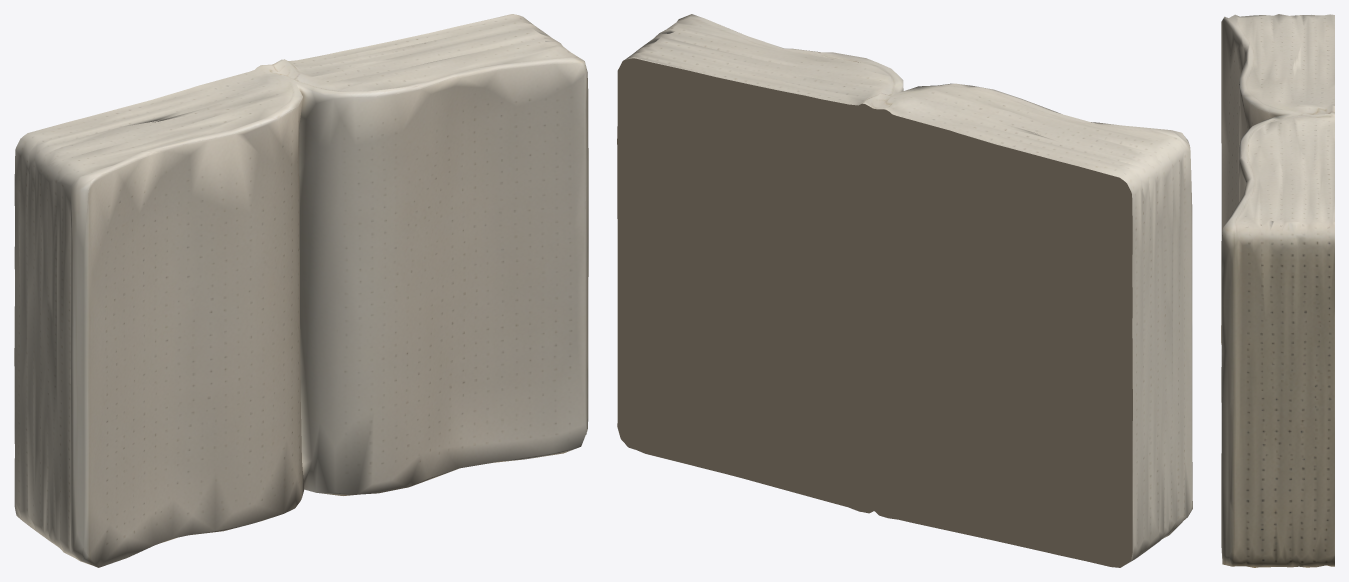
The model's file is Note.fbx.
3 renders of one model, left to right at view 1: azimuth 30°, elevation 25°; view 2: azimuth 150°, elevation 25°; view 3: azimuth 270°, elevation 25°, orthographic. The views are drawn at different scales.
Visible parts, largest first — view 1: material_0; view 2: material_0; view 3: material_0.
Part boxes in pixels (x1,y1,x2,y2): material_0: [14, 14, 588, 567]; material_0: [617, 14, 1192, 567]; material_0: [1221, 14, 1334, 567].
Bounding box in the file's own units: 94.37 × 72.14 × 20.47.
1 material, 1 textured.
